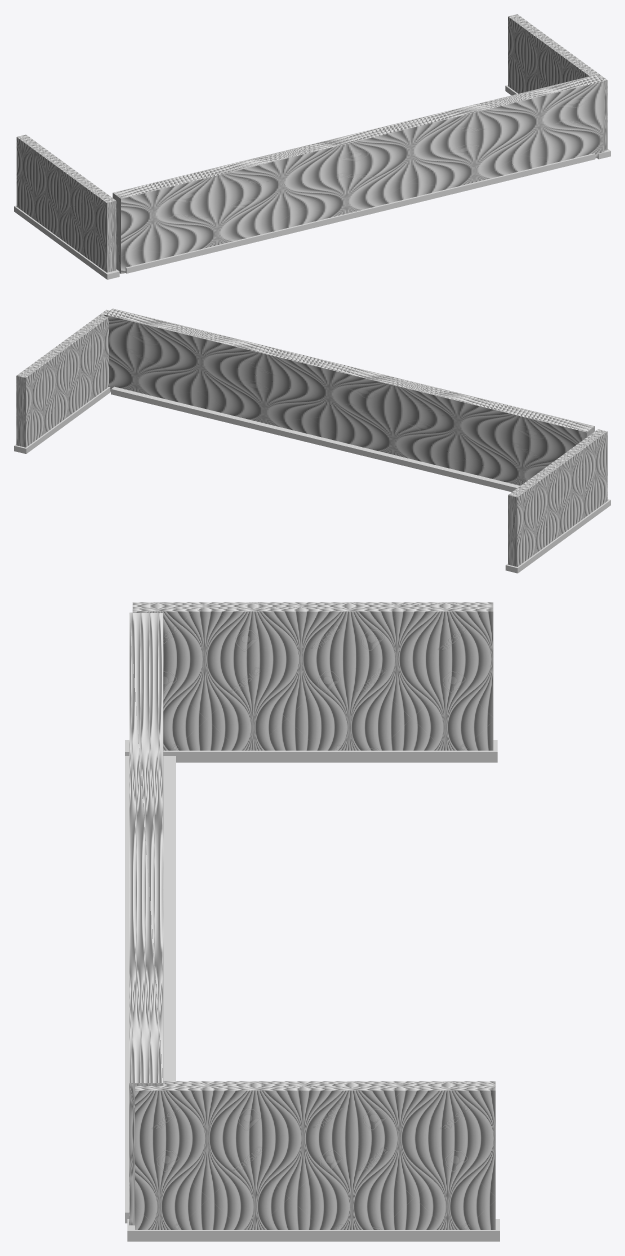
File: version1aula.glb
3 renders of one model, top to bottom at view 1: azimuth 30°, elevation 25°; view 2: azimuth 150°, elevation 25°; view 3: azimuth 270°, elevation 25°, orthographic. The views are drawn at different scales.
Parts seen in each view (by area): view 1: Cube.003, Cube.004, Cube, Cube.002, Cube.005; view 2: Cube.003, Cube.004, Cube, Cube.002, Cube.005, Cube.001; view 3: Cube, Cube.004, Cube.003, Cube.002, Cube.001, Cube.005.
Boxes of the visible parts, x1=… form: Cube.003: x1=112, y1=75, x2=604, y2=273; Cube.004: x1=16, y1=134, x2=116, y2=272; Cube: x1=508, y1=14, x2=607, y2=150; Cube.002: x1=125, y1=153, x2=595, y2=273; Cube.005: x1=14, y1=205, x2=119, y2=279; Cube.003: x1=104, y1=308, x2=594, y2=485; Cube.004: x1=508, y1=429, x2=607, y2=566; Cube: x1=16, y1=309, x2=109, y2=447; Cube.002: x1=111, y1=386, x2=520, y2=491; Cube.005: x1=505, y1=499, x2=610, y2=573; Cube.001: x1=14, y1=387, x2=110, y2=453; Cube: x1=135, y1=1081, x2=495, y2=1229; Cube.004: x1=132, y1=602, x2=493, y2=750; Cube.003: x1=129, y1=612, x2=163, y2=1225; Cube.002: x1=125, y1=756, x2=175, y2=1223; Cube.001: x1=127, y1=1219, x2=499, y2=1241; Cube.005: x1=125, y1=740, x2=497, y2=762.
Size of what is drawn, in the model's own units: 50.5 by 7.33 by 16.3.
6 materials, 3 textured.
